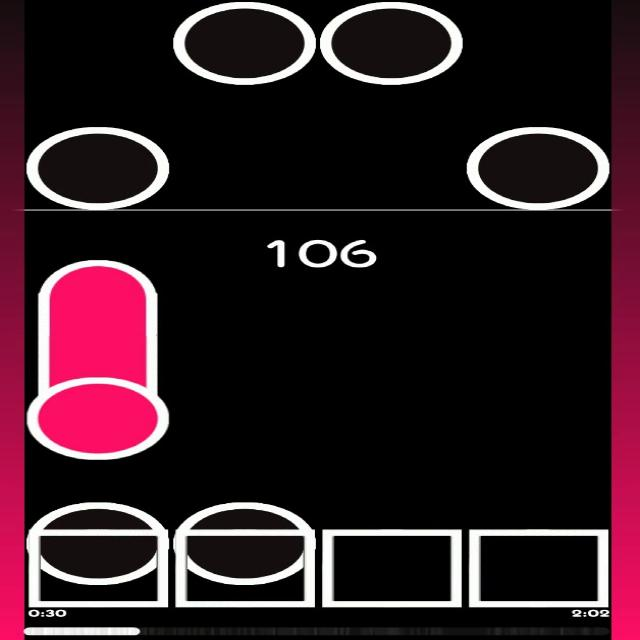end_hold: (37, 252, 156, 300)
note: (28, 124, 166, 212), (466, 127, 612, 209), (321, 0, 463, 84), (38, 502, 166, 587), (176, 504, 308, 585), (178, 3, 306, 84)
start_hold: (30, 359, 165, 461)
